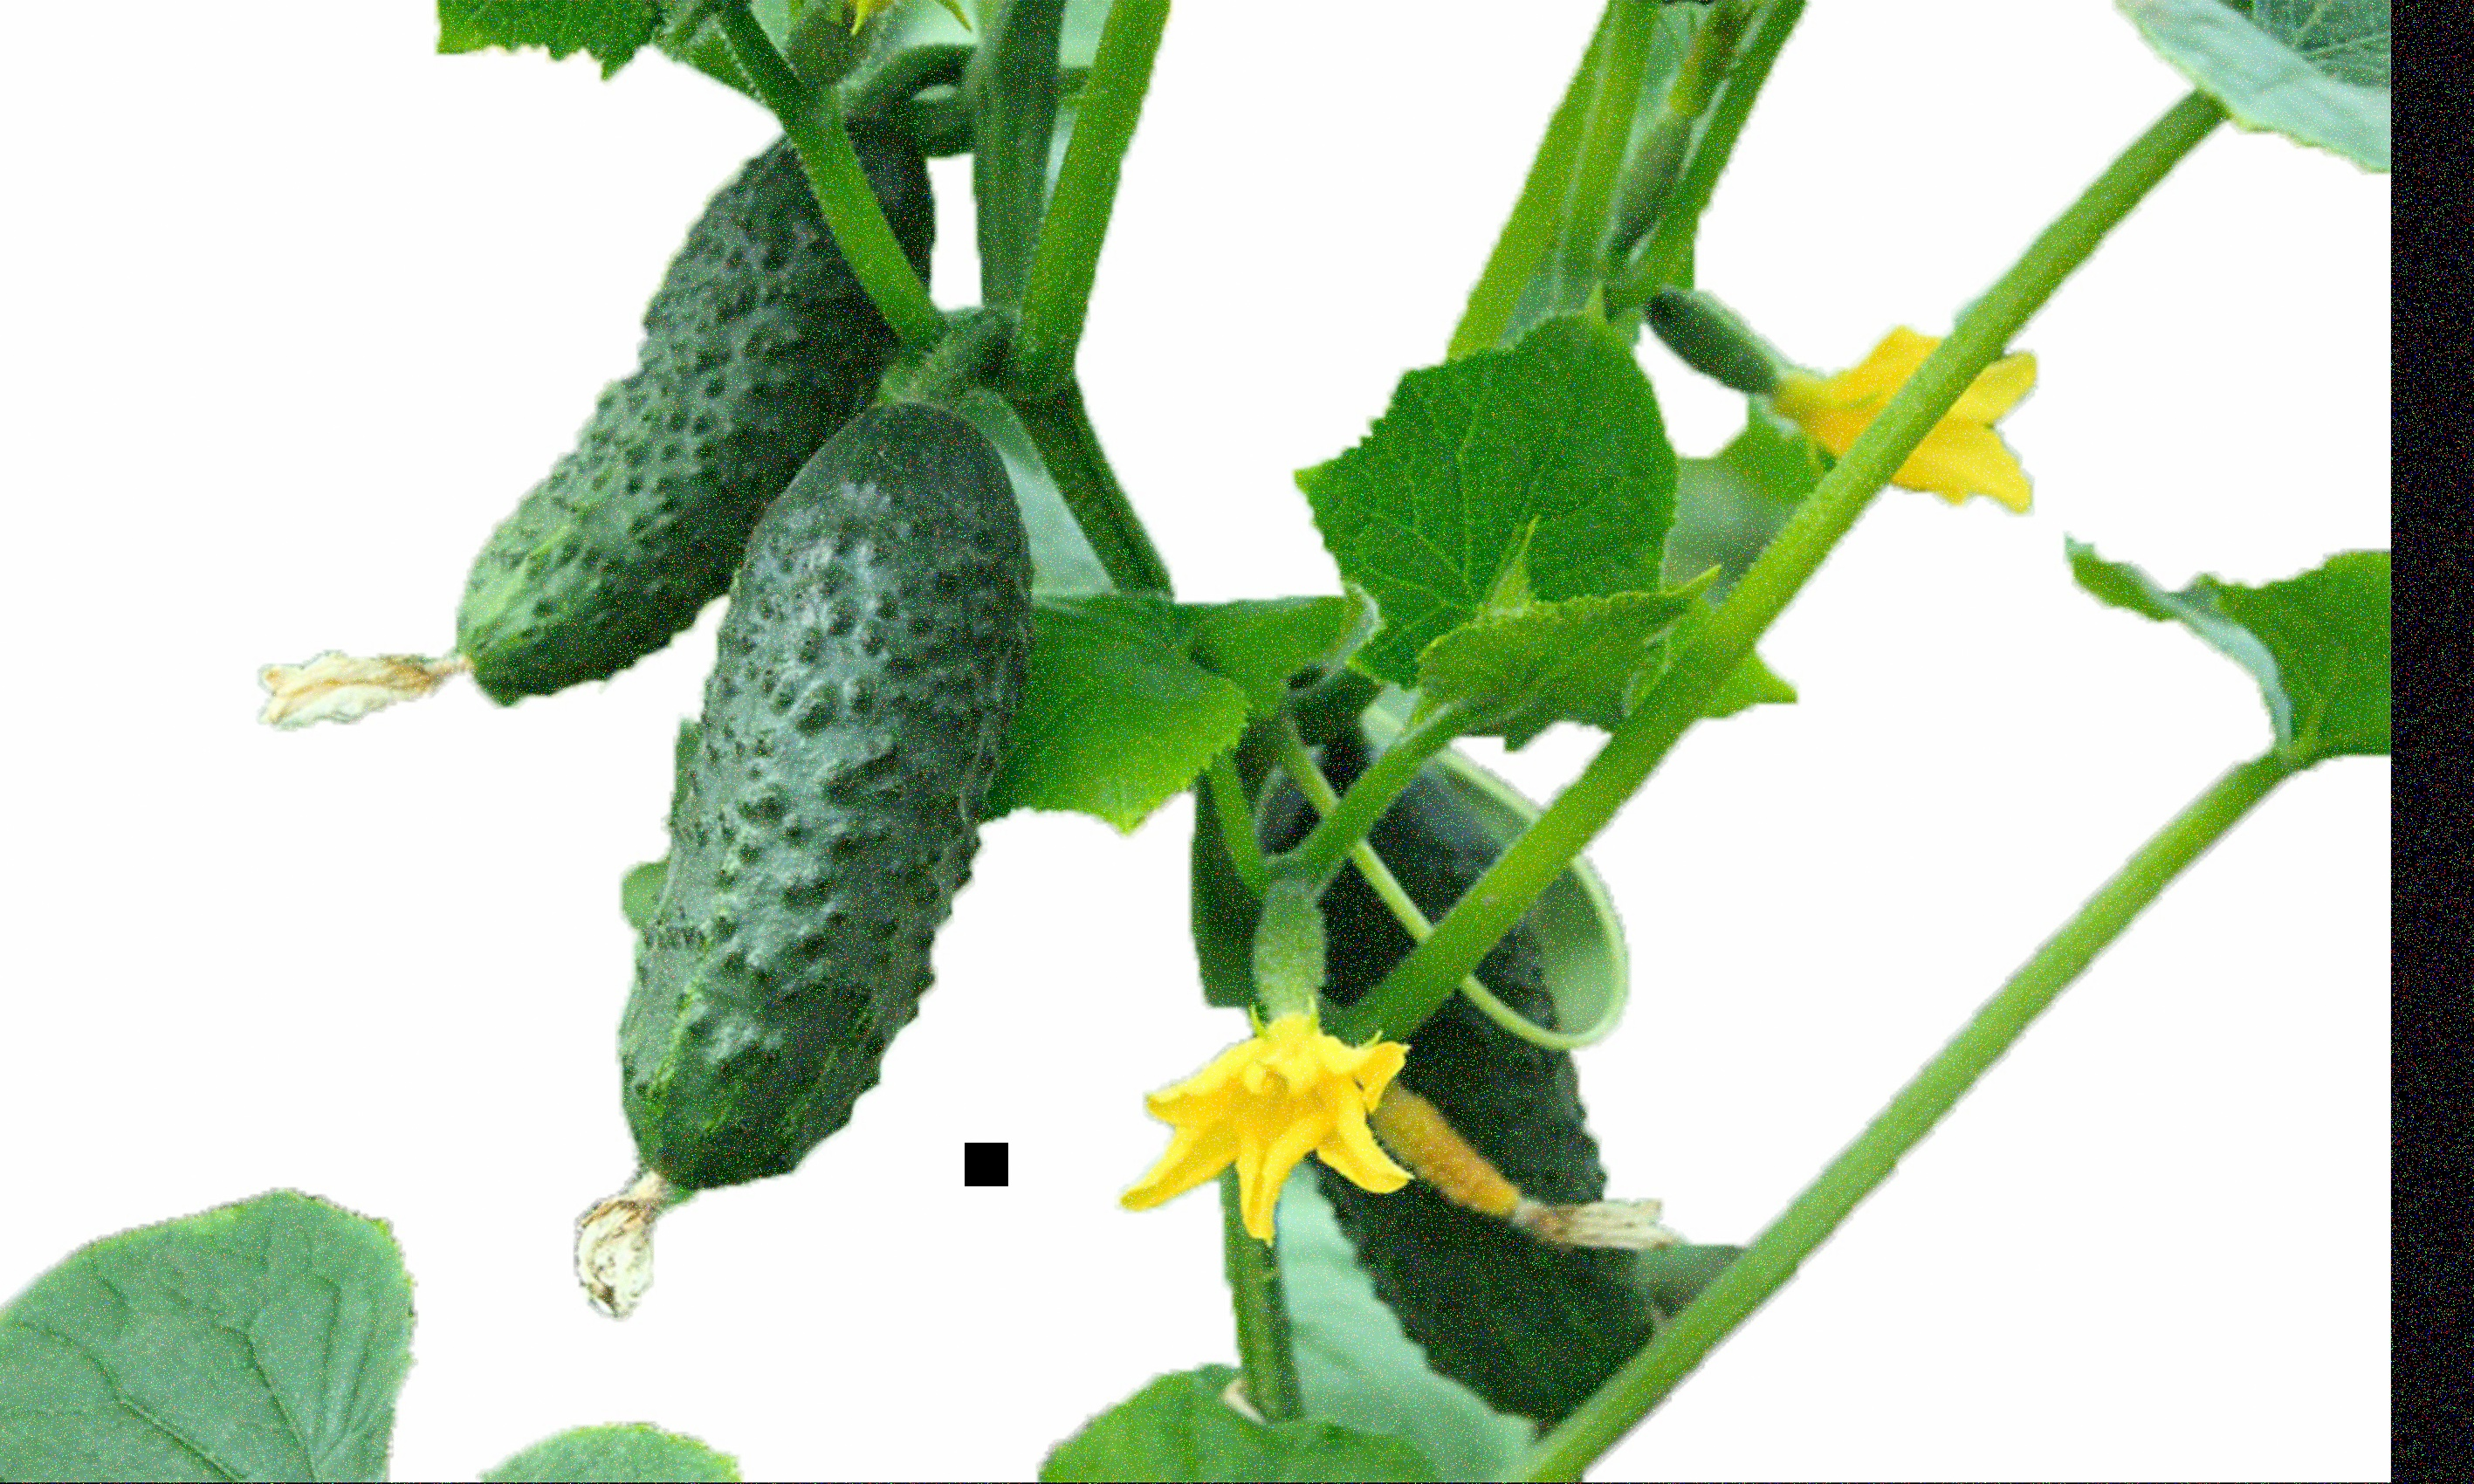cucumber: (403, 97, 977, 721), (615, 406, 1026, 1201)
cucumber_plant: (1082, 12, 2066, 1397)
